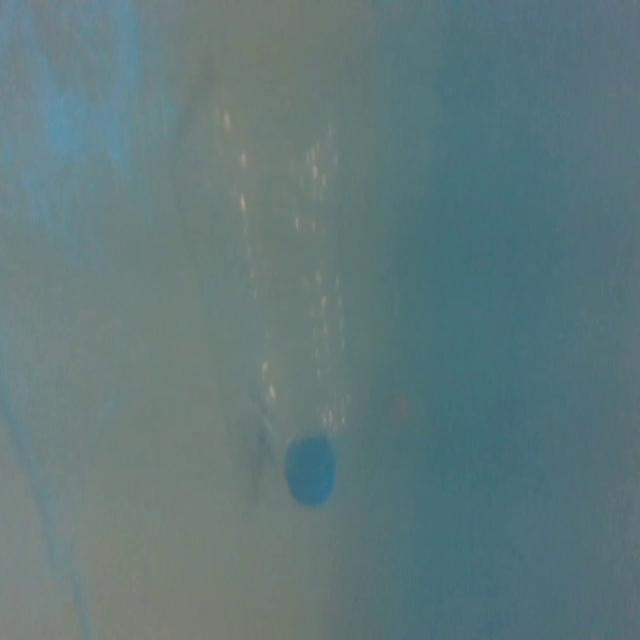plastic bottle: (206, 92, 370, 510)
